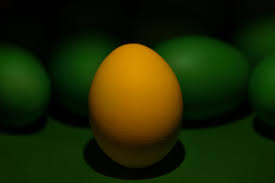egg: (88, 44, 183, 168)
